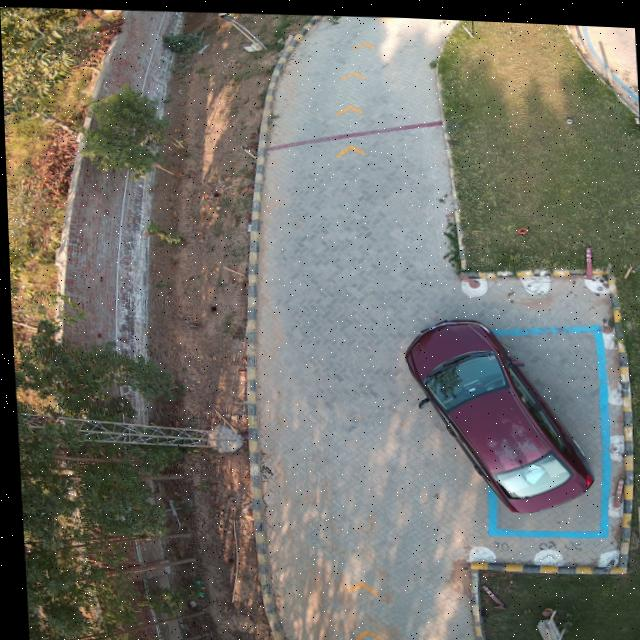car: (403, 314, 589, 507)
